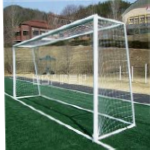goals: (10, 11, 137, 144)
